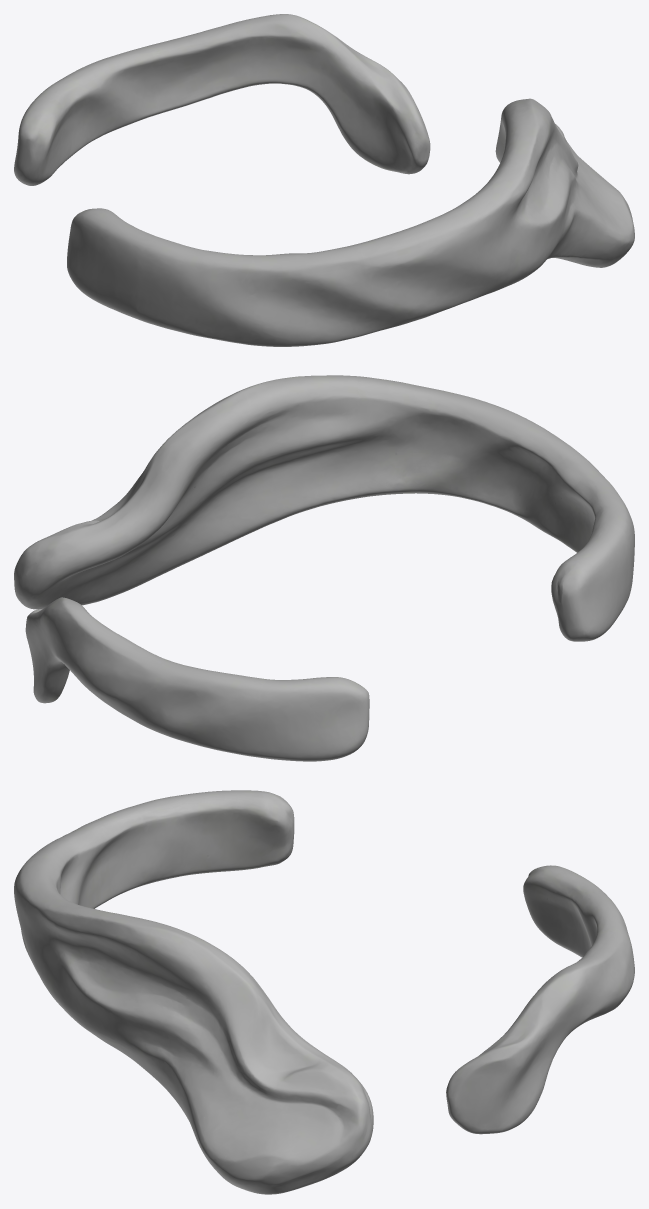
3 renders of one model, top to bottom at view 1: azimuth 30°, elevation 25°; view 2: azimuth 150°, elevation 25°; view 3: azimuth 270°, elevation 25°, orthographic. The views are drawn at different scales.
Parts seen in each view (by area): view 1: tripo_node_aed4f873-5628-41ae-b283-ab09bb3f9d4d; view 2: tripo_node_aed4f873-5628-41ae-b283-ab09bb3f9d4d; view 3: tripo_node_aed4f873-5628-41ae-b283-ab09bb3f9d4d.
Part boxes in pixels (bbox=[...]): tripo_node_aed4f873-5628-41ae-b283-ab09bb3f9d4d: bbox=[14, 14, 634, 346]; tripo_node_aed4f873-5628-41ae-b283-ab09bb3f9d4d: bbox=[14, 375, 634, 761]; tripo_node_aed4f873-5628-41ae-b283-ab09bb3f9d4d: bbox=[14, 790, 634, 1194].
Bounding box in the file's own units: 0.9967 × 0.3628 × 1.
1 material, 1 textured.
